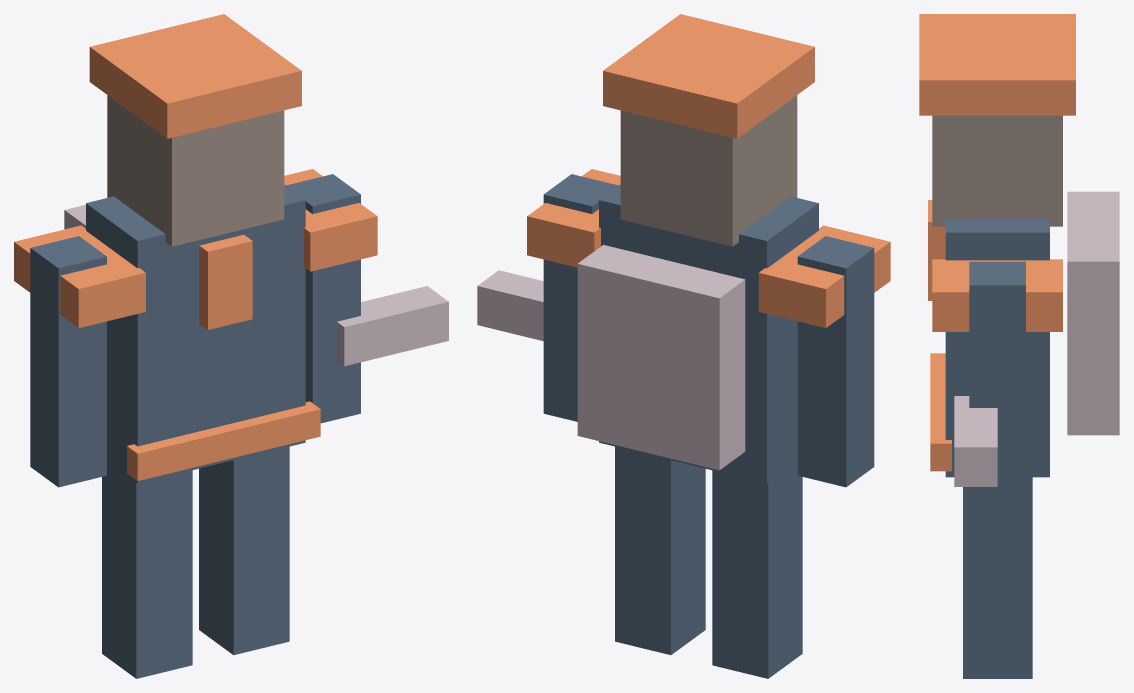
File: 06_ilyra_deepwell_runner_from_resource.glb
The picture shows the model from 3 angles, left to right: view 1: azimuth 30°, elevation 25°; view 2: azimuth 150°, elevation 25°; view 3: azimuth 270°, elevation 25°; orthographic projection.
Parts seen in each view (by area): view 1: Ilyra Deepwell, Runner from Resource; view 2: Ilyra Deepwell, Runner from Resource; view 3: Ilyra Deepwell, Runner from Resource.
Boxes of the visible parts, x1,y1,x2,y2 form: Ilyra Deepwell, Runner from Resource: (14,14,448,678); Ilyra Deepwell, Runner from Resource: (477,14,890,678); Ilyra Deepwell, Runner from Resource: (919,14,1119,678).
Bounding box in the file's own units: 1.12 × 1.64 × 0.5008.
